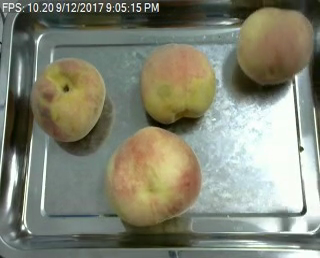Peach: (106, 125, 201, 228), (30, 57, 107, 143), (139, 42, 216, 124), (236, 7, 314, 84)
